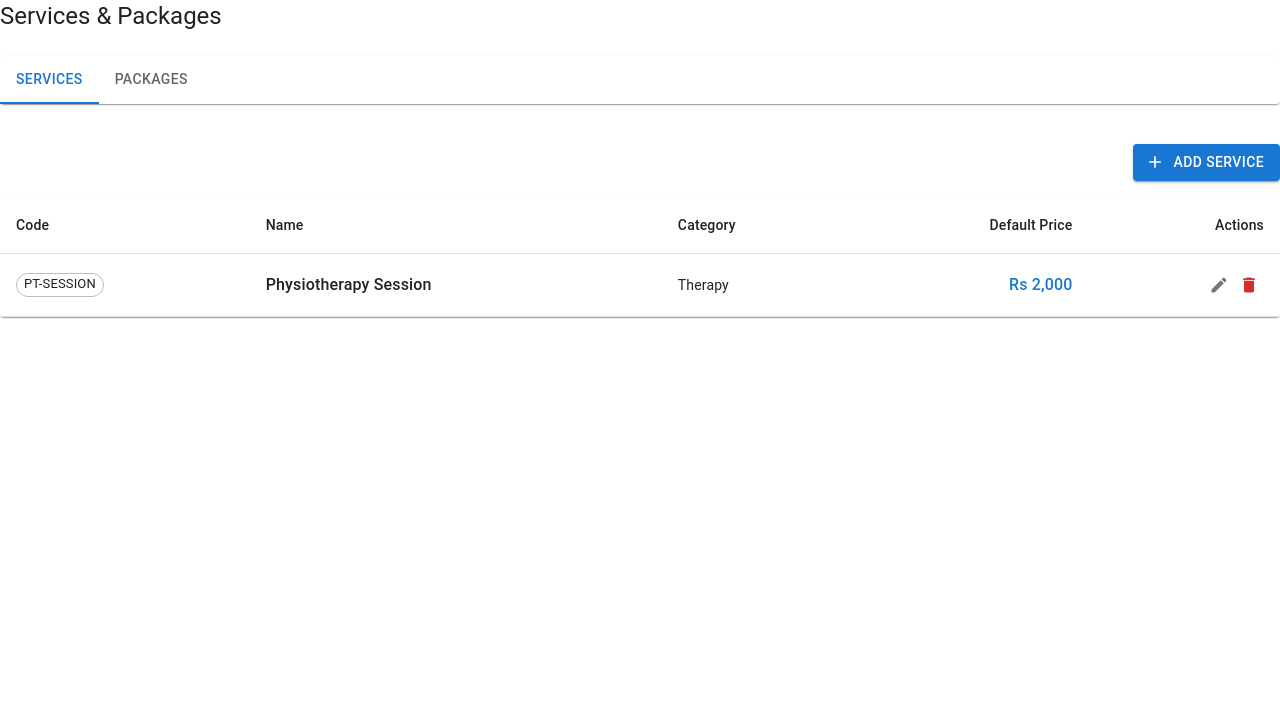
Test: Services Component › Services Tab › Edit Service › should open edit dialog with pre-filled data
The width and height of the screenshot is (1280, 720).
expect the text "Physiotherapy Session" is shown: met, box [266,274,432,294]
Click the button named "edit service": point(1219, 284) [1204,270,1234,300]
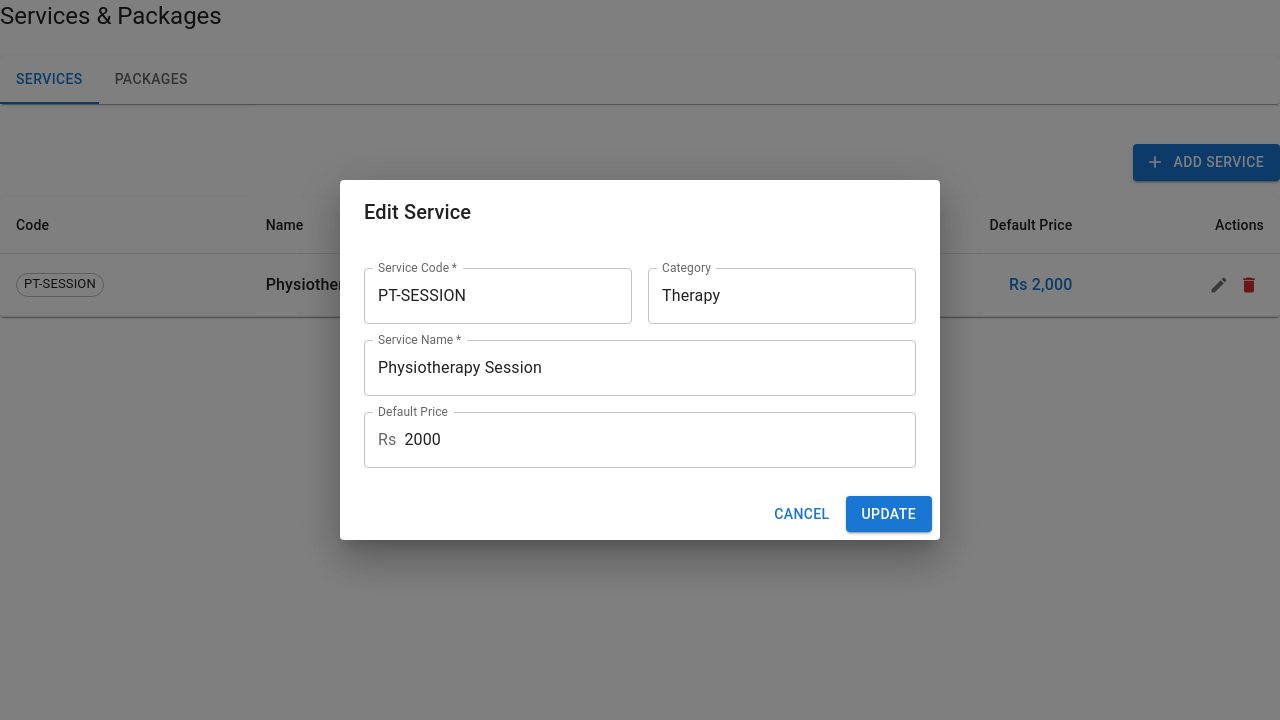
expect the heading "Edit Service" is shown: met, box [364,200,471,224]
expect the field labelled "Service Code *" holds "PT-SESSION": met, box [364,268,632,324]
expect the field labelled "Service Name *" holds "Physiotherapy Session": met, box [364,340,916,396]
